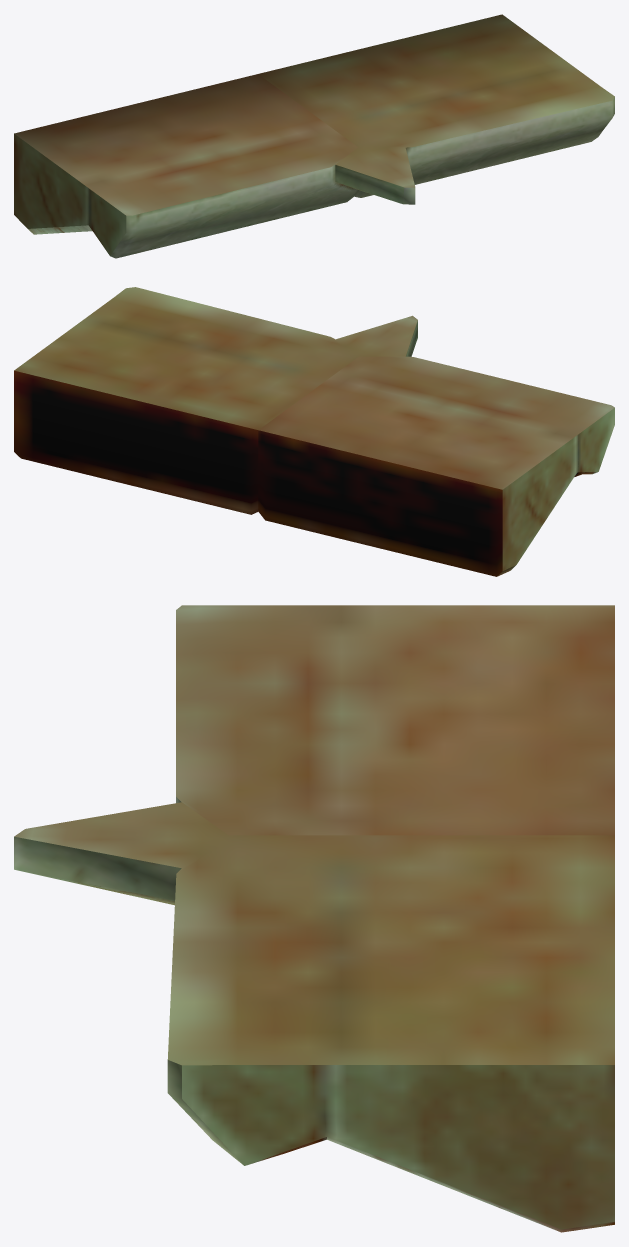
Rendered from Ruins_Trim_Base_5M_A.fbx.
3 views of the same model, one above another, from view 1: azimuth 30°, elevation 25°; view 2: azimuth 150°, elevation 25°; view 3: azimuth 270°, elevation 25° (orthographic). The views are drawn at different scales.
Parts seen in each view (by area): view 1: Ruins_Trim_Base_4M_A; view 2: Ruins_Trim_Base_4M_A; view 3: Ruins_Trim_Base_4M_A.
Part boxes in pixels (<box>): Ruins_Trim_Base_4M_A: <box>14,14,614,258</box>; Ruins_Trim_Base_4M_A: <box>14,287,614,576</box>; Ruins_Trim_Base_4M_A: <box>14,605,614,1232</box>.
Bounding box in the file's own units: 500 × 90.42 × 276.
